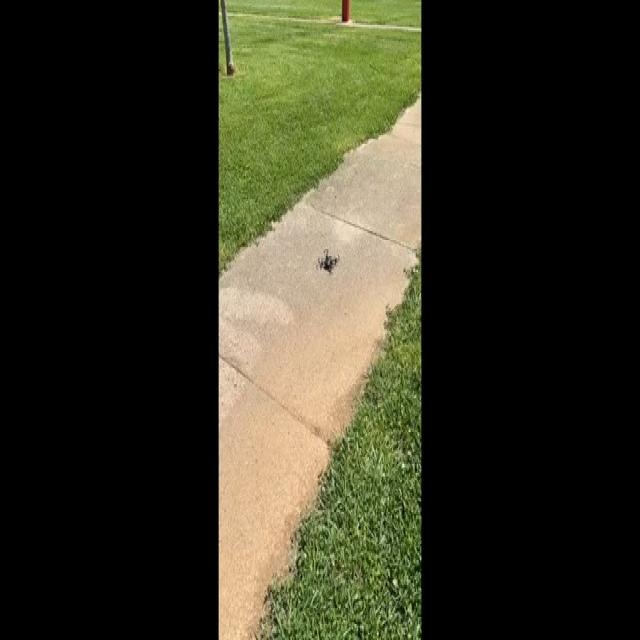drone: (315, 239, 343, 285)
